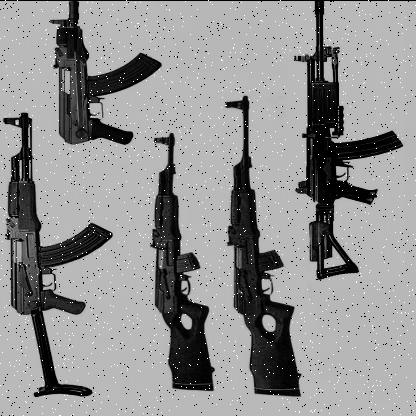rifle: (0, 111, 112, 404), (296, 0, 403, 283), (222, 94, 308, 395), (138, 127, 218, 395), (45, 0, 164, 147)
